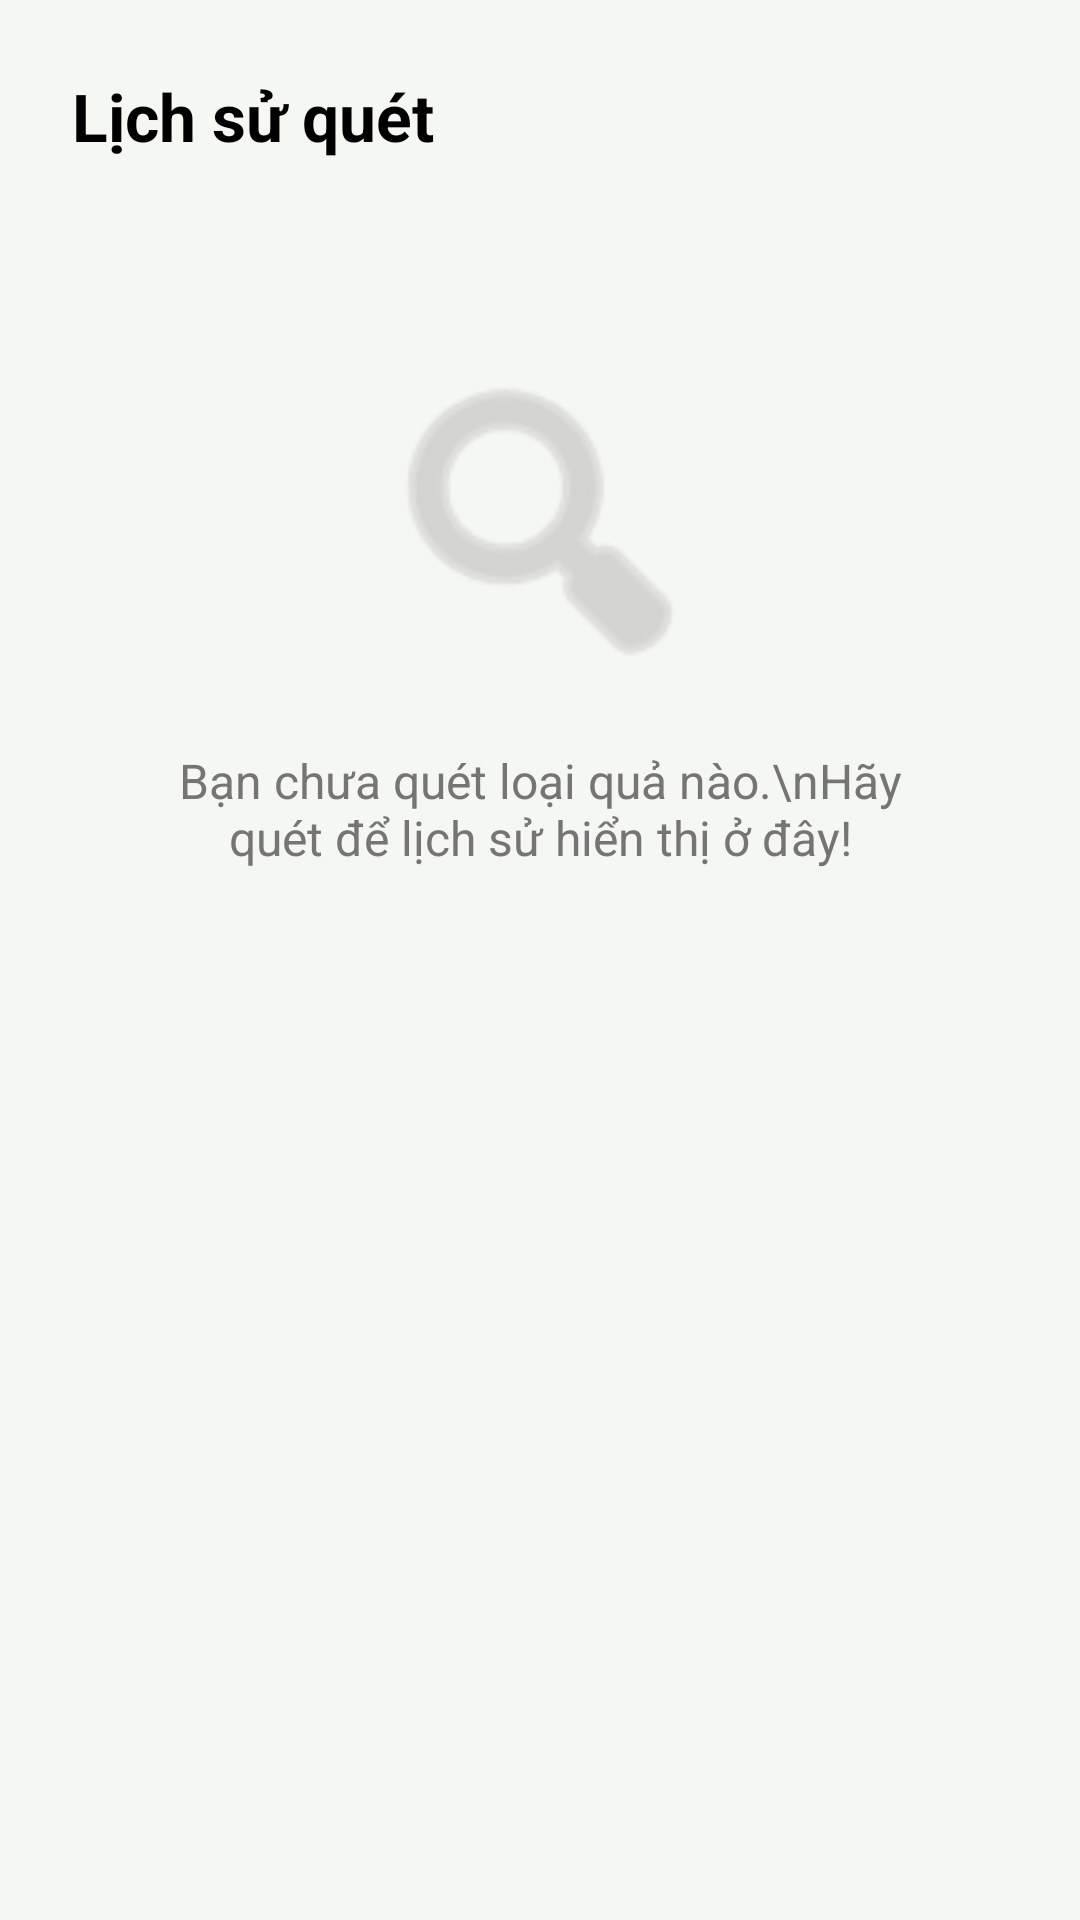

Named icons in this screenshot (1080×1920) and their centers, (x=x, y=y):
search: (x=540, y=522)
